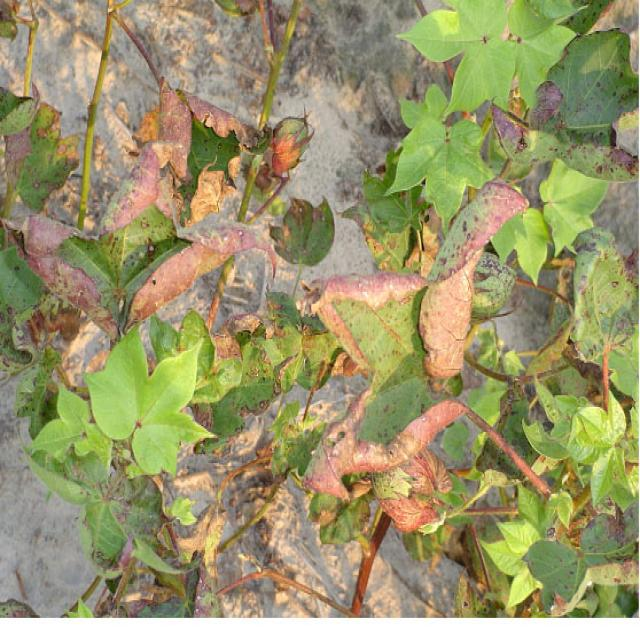Fusarium Wilt: (64, 73, 573, 551)
